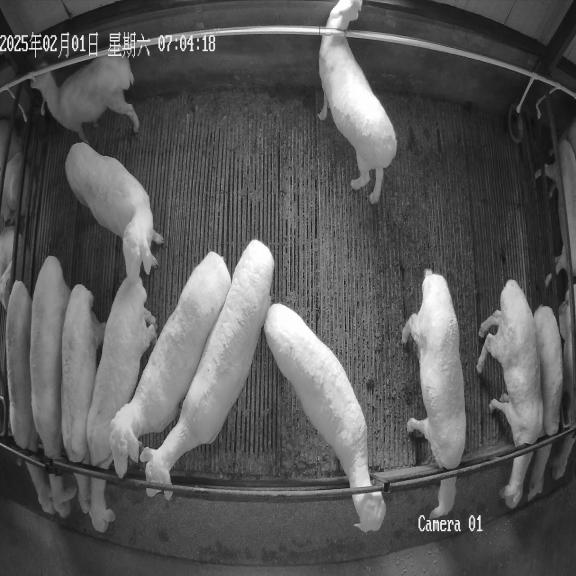eating: (86, 276, 156, 531), (402, 270, 466, 518), (477, 280, 543, 509), (5, 281, 55, 516), (30, 256, 73, 524), (61, 284, 105, 517), (527, 306, 563, 502)
stand: (141, 240, 274, 484), (264, 304, 385, 532), (110, 252, 231, 477), (318, 0, 397, 204), (65, 142, 163, 279), (31, 56, 140, 143)
